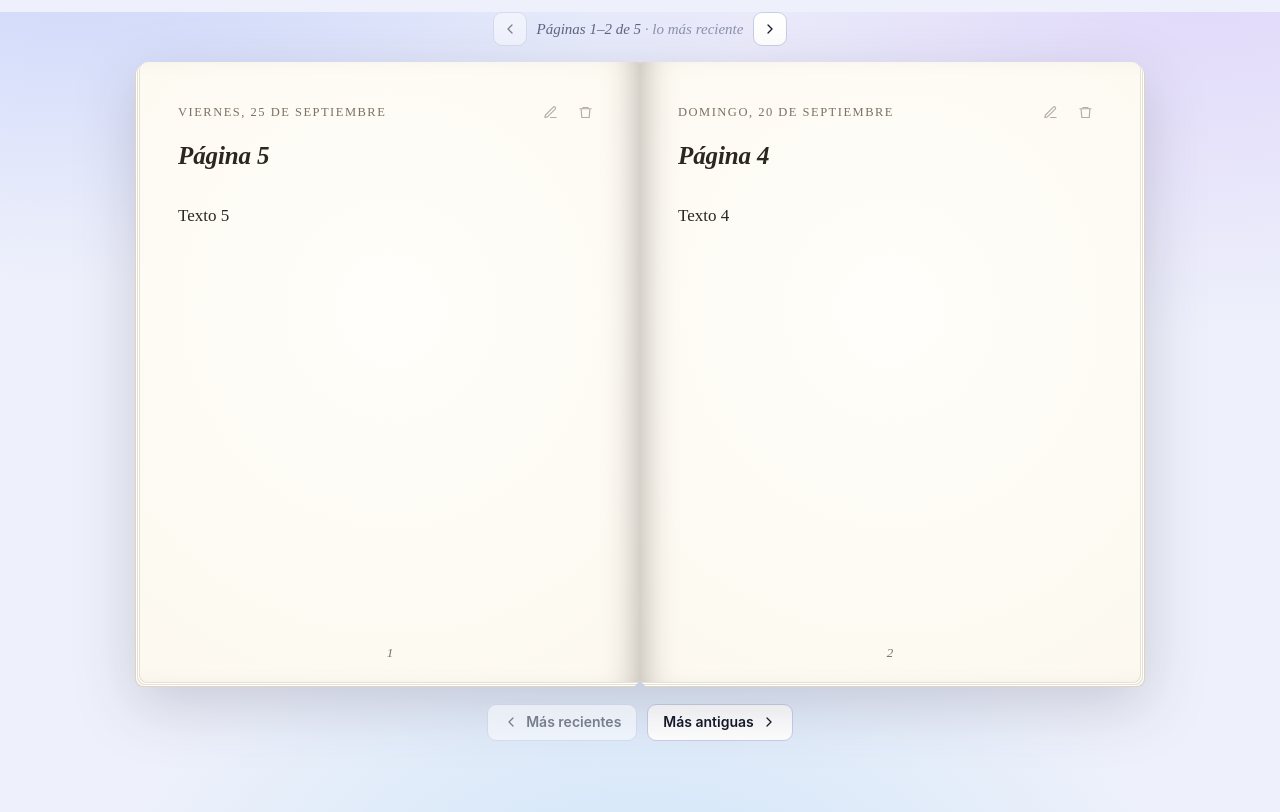
Test: libro en escritorio (dos páginas) › hojea de dos en dos y cierra con la hoja de dónde empezó el diario
The image size is (1280, 812).
Click the button named "Páginas más antiguas".
click(770, 29)  # box top-left (754, 12), bottom-right (788, 46)
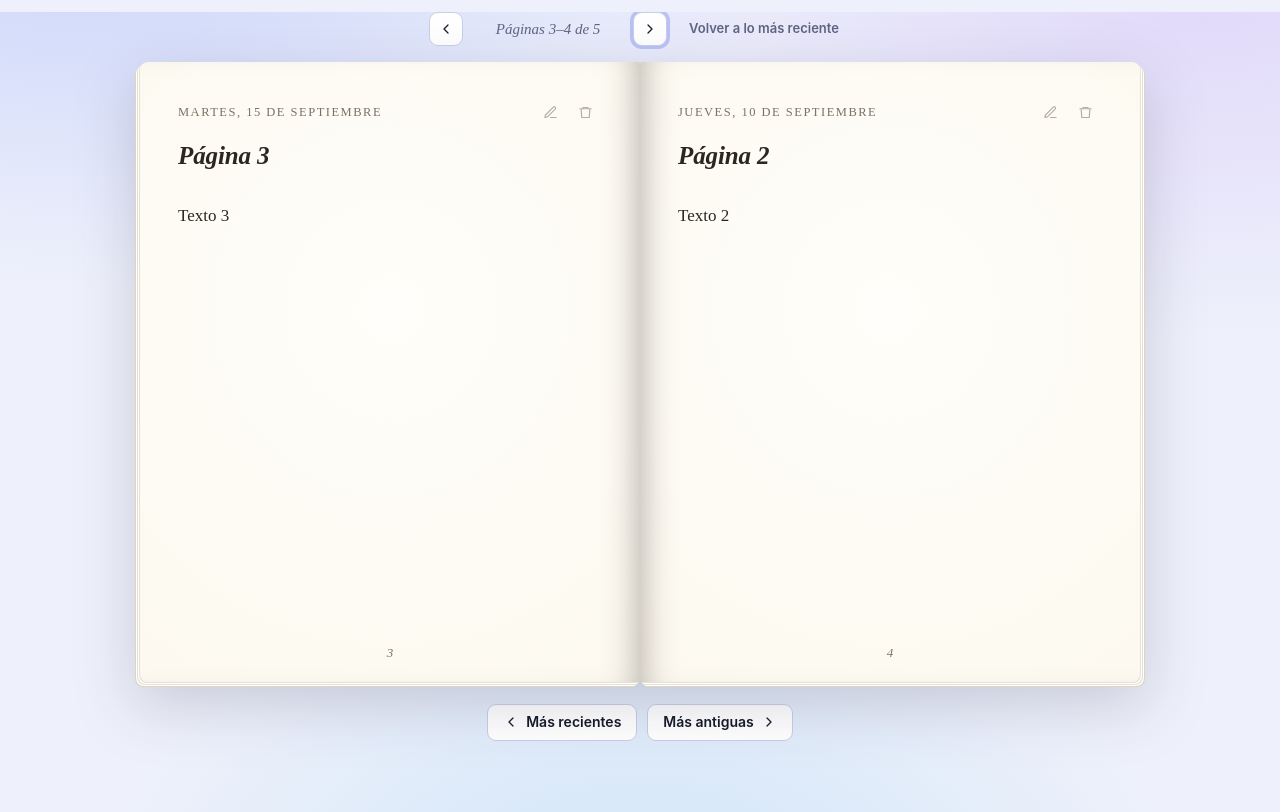
Click the button named "Páginas más antiguas".
click(650, 29)  # box top-left (633, 12), bottom-right (667, 46)
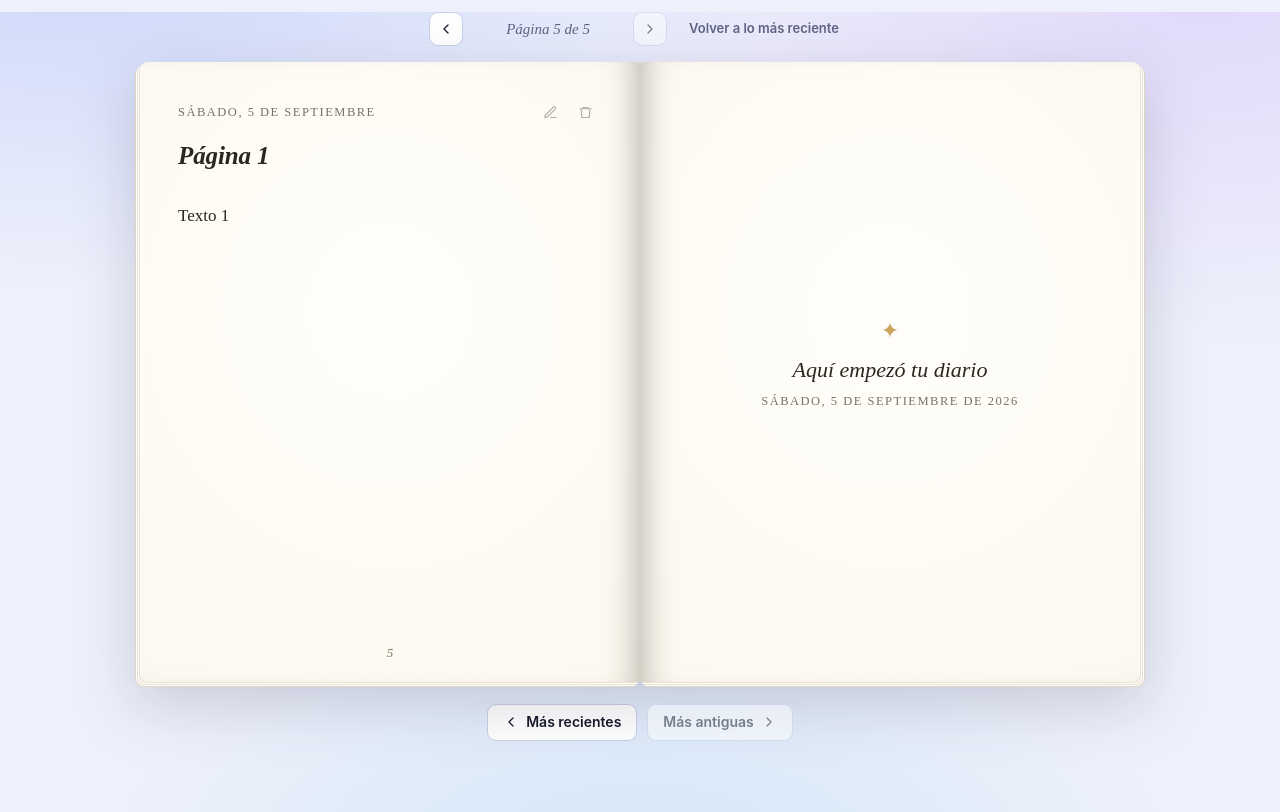
Check: the text "Aquí empezó tu diario" is shown, box top-left (792, 353), bottom-right (987, 386)
